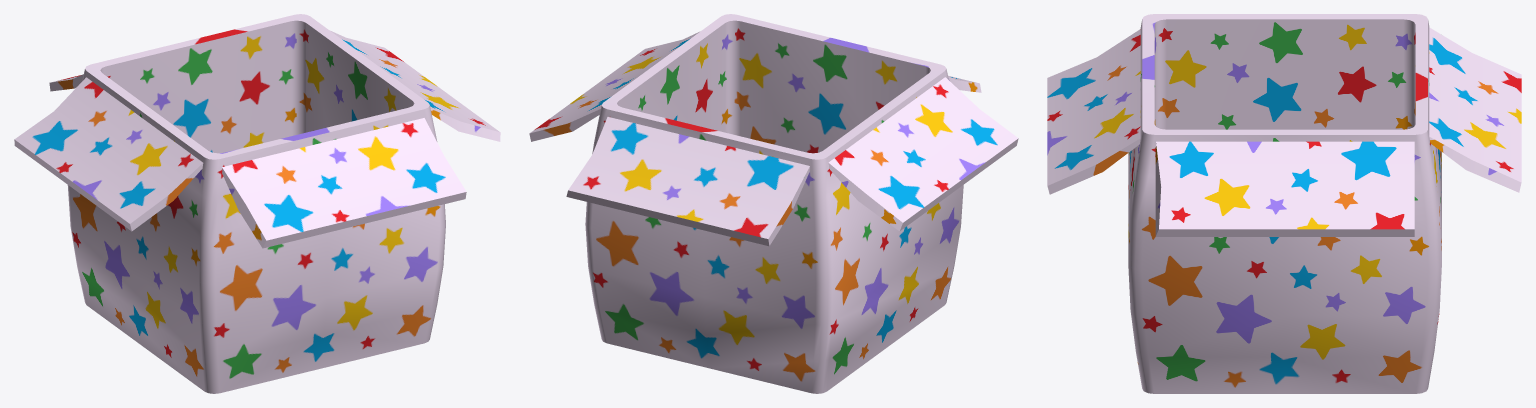
The model's file is Open_Box.fbx.
The picture shows the model from 3 angles, left to right: view 1: azimuth 30°, elevation 25°; view 2: azimuth 150°, elevation 25°; view 3: azimuth 270°, elevation 25°; orthographic projection. The views are drawn at different scales.
Visible parts, largest first — view 1: Box, polySurface3, polySurface4, polySurface1; view 2: Box, polySurface5, polySurface4, polySurface1; view 3: Box, polySurface1, polySurface5, polySurface3.
Boxes of the visible parts, bbox=[...] form: Box: bbox=[67, 14, 445, 393]; polySurface3: bbox=[222, 118, 466, 248]; polySurface4: bbox=[14, 77, 203, 231]; polySurface1: bbox=[330, 30, 500, 141]; Box: bbox=[585, 14, 963, 393]; polySurface5: bbox=[566, 117, 809, 246]; polySurface4: bbox=[828, 77, 1018, 231]; polySurface1: bbox=[529, 31, 699, 141]; Box: bbox=[1128, 14, 1441, 393]; polySurface1: bbox=[1155, 141, 1414, 236]; polySurface5: bbox=[1429, 27, 1521, 192]; polySurface3: bbox=[1047, 29, 1140, 194].
Bounding box in the file's own units: 8.09 × 4.87 × 8.07.
1 material, 1 textured.
